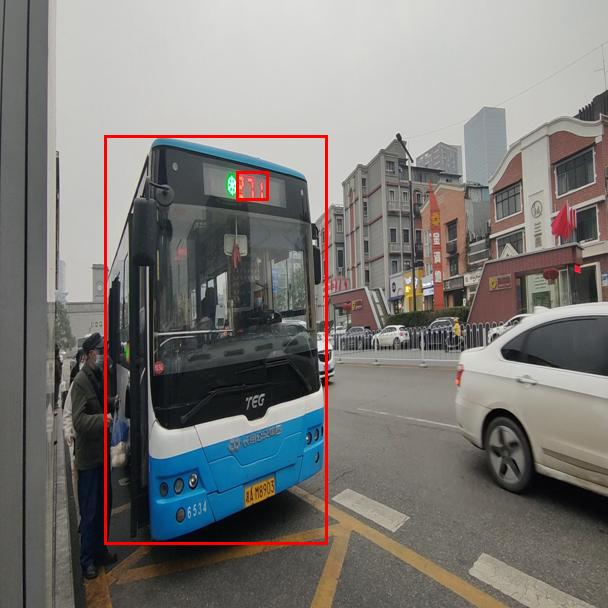bus: (104, 135, 327, 544)
screen: (236, 171, 268, 200)
